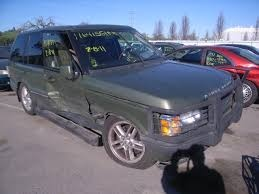Dent: (43, 74, 105, 131)
